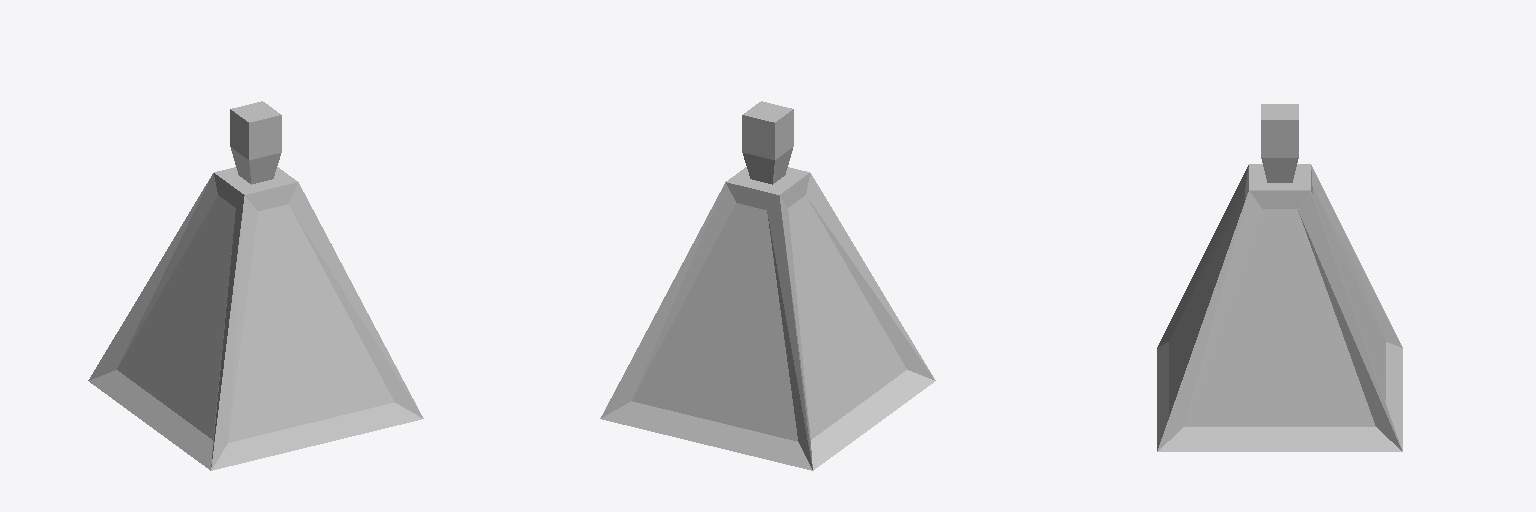
The model's file is stuckup_rhomboid.obj.
3 views of the same model, side by side, from view 1: azimuth 30°, elevation 25°; view 2: azimuth 150°, elevation 25°; view 3: azimuth 270°, elevation 25° (orthographic).
Parts seen in each view (by area): view 1: Cube; view 2: Cube; view 3: Cube.
Boxes of the visible parts, box(x1,y1,x2,y2) form: Cube: box(88, 101, 423, 470); Cube: box(600, 101, 935, 470); Cube: box(1157, 104, 1402, 451).
Bounding box in the file's own units: 2 × 2.59 × 2.